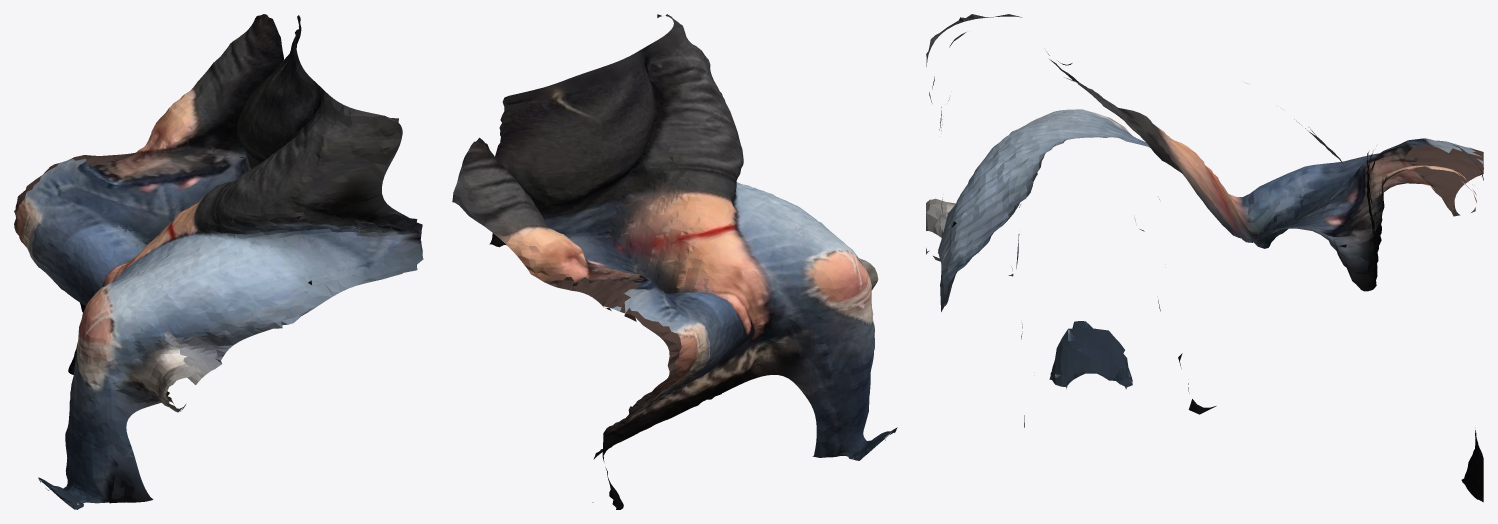
3 renders of one model, left to right at view 1: azimuth 30°, elevation 25°; view 2: azimuth 150°, elevation 25°; view 3: azimuth 270°, elevation 25°, orthographic. The views are drawn at different scales.
Size of the model in its own units: 0.5162 by 0.5317 by 0.497.
Materials: 2 (2 with a texture image).
